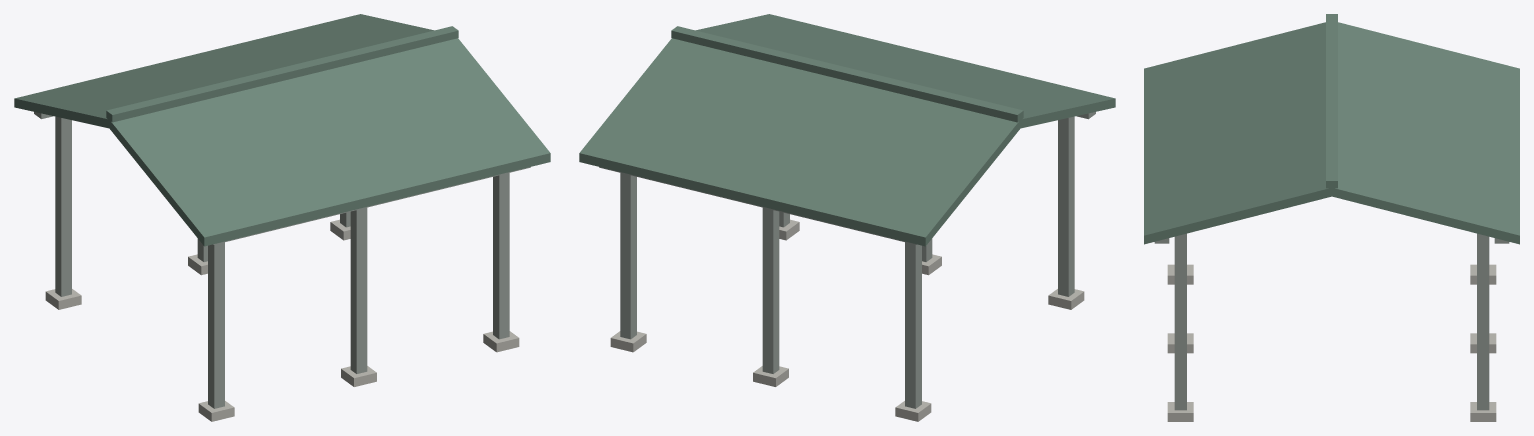
3 renders of one model, left to right at view 1: azimuth 30°, elevation 25°; view 2: azimuth 150°, elevation 25°; view 3: azimuth 270°, elevation 25°, orthographic.
Parts seen in each view (by area): view 1: osm532894620__roof, osm532894620__steel, osm532894620__base; view 2: osm532894620__roof, osm532894620__steel, osm532894620__base; view 3: osm532894620__roof, osm532894620__steel, osm532894620__base.
Boxes of the visible parts, x1,y1,x2,y2 form: osm532894620__roof: [14, 14, 550, 246]; osm532894620__steel: [34, 112, 530, 408]; osm532894620__base: [45, 219, 519, 421]; osm532894620__roof: [579, 14, 1115, 246]; osm532894620__steel: [599, 112, 1095, 408]; osm532894620__base: [610, 219, 1084, 421]; osm532894620__roof: [1144, 14, 1519, 244]; osm532894620__steel: [1154, 233, 1509, 410]; osm532894620__base: [1167, 264, 1496, 421].
Bounding box in the file's own units: 4.85 × 3.39 × 4.61.
